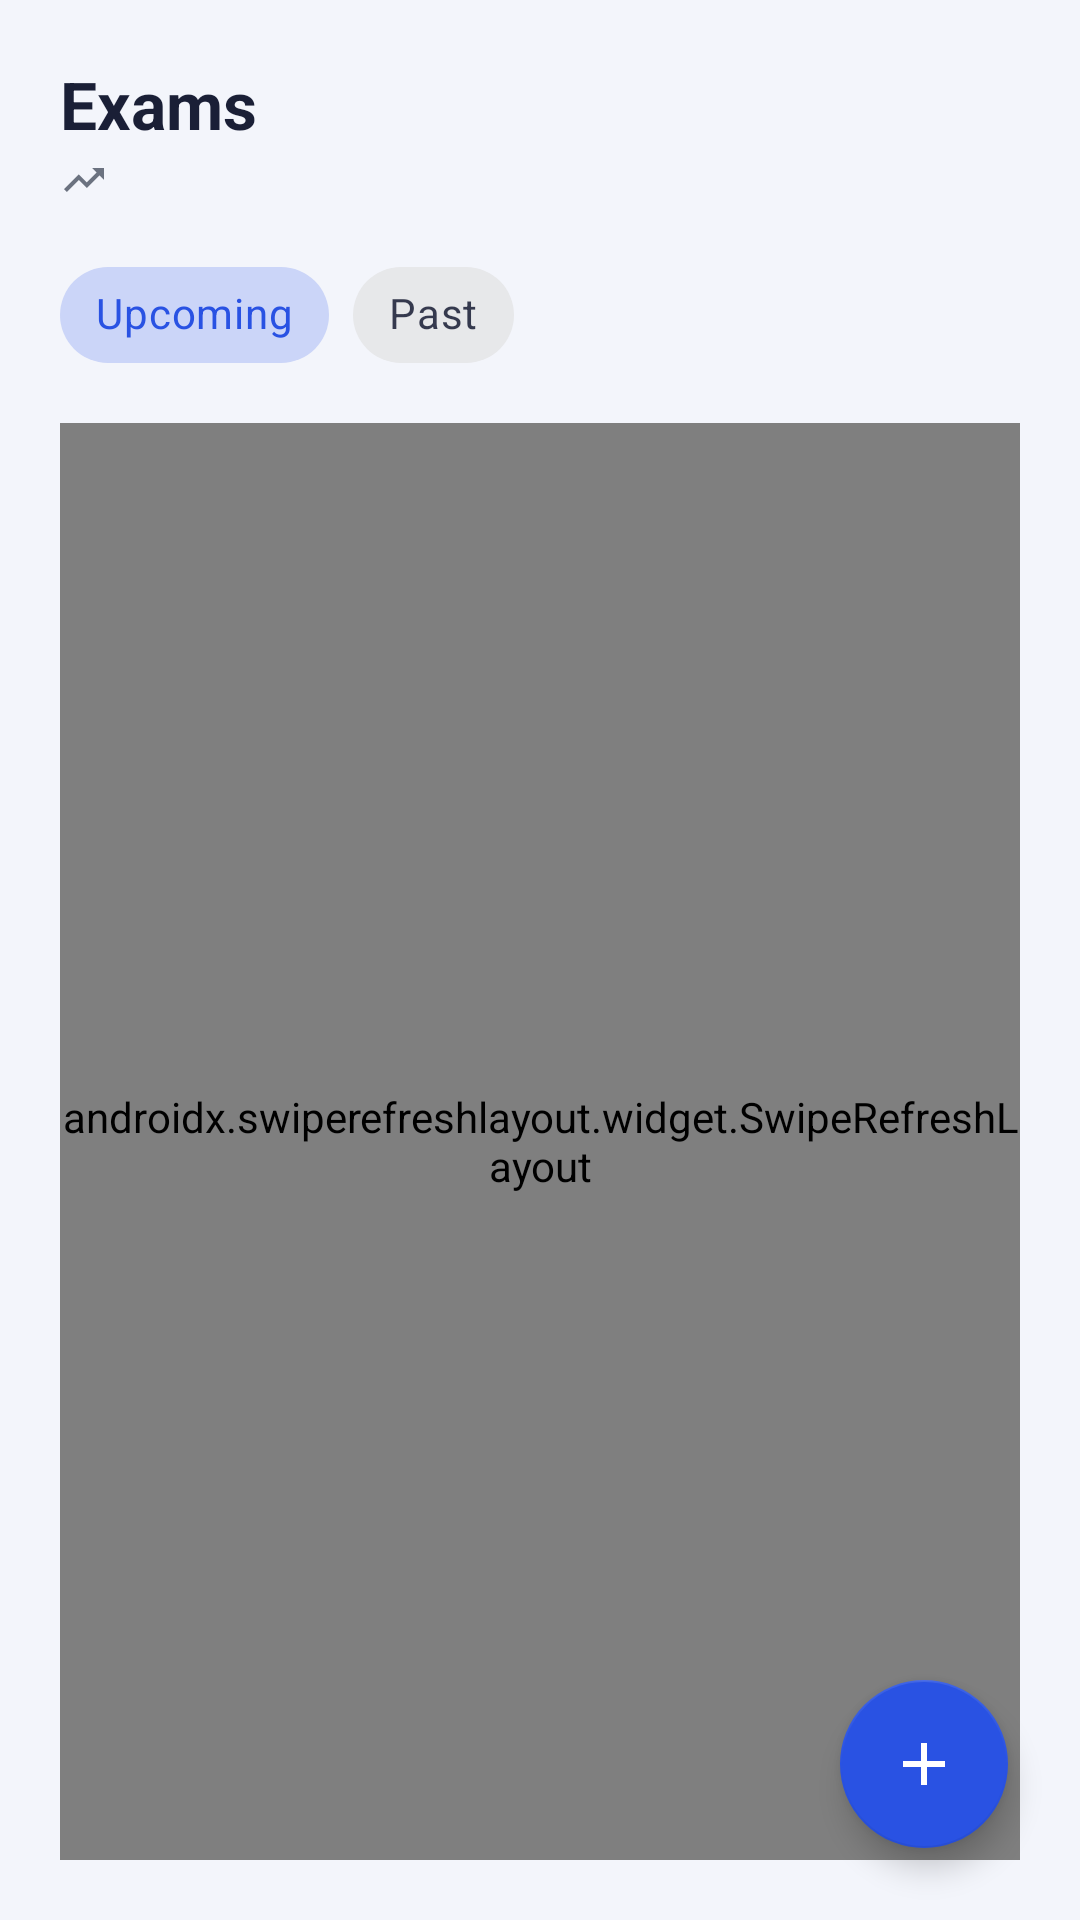

Icons on this 1080 x 1920 Android screen, each with the point to tap as (x=x, y=y):
Add exam: (x=924, y=1764)
